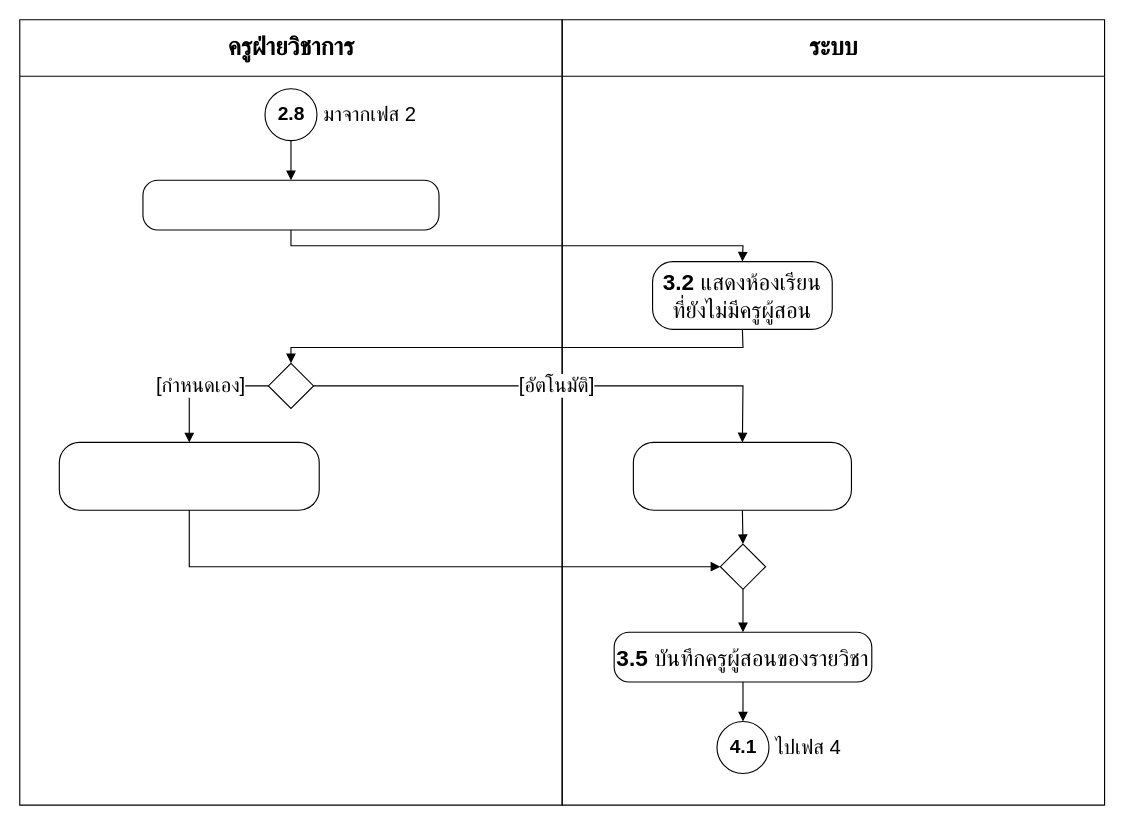
Some shapes in this 1124 by 825 pixel diagram are drawn without their labels. The shapes that lost their labels are listed below. From the top down, each one's centre as x and y in pixels, then its label:
(290,204): 3.1 เลือกแผนการเรียนและรายวิชา
(188,475): 3.3 เลือกครูและห้องที่สอน (ครูร่วมสอนได้)
(741,475): 3.4 เลือกครูในกลุ่มสาระ ที่มีภาระสอนน้อย
